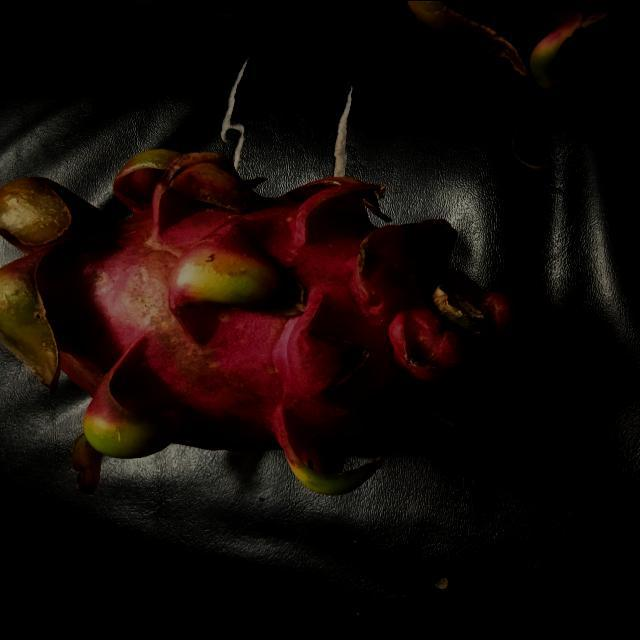do: (0, 143, 522, 496)
